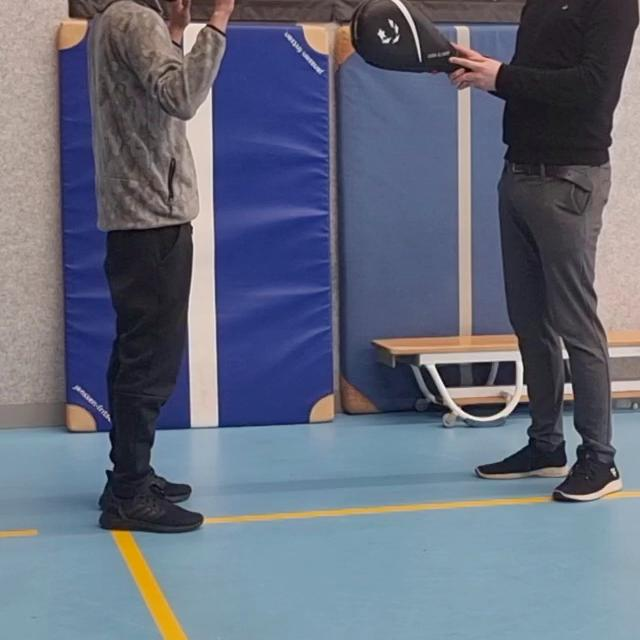paddle: (352, 0, 465, 76)
